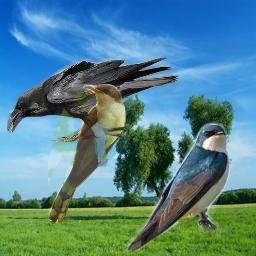Crow: (7, 57, 179, 142)
Cuckoo: (48, 84, 126, 226)
Swallow: (122, 119, 235, 255)
